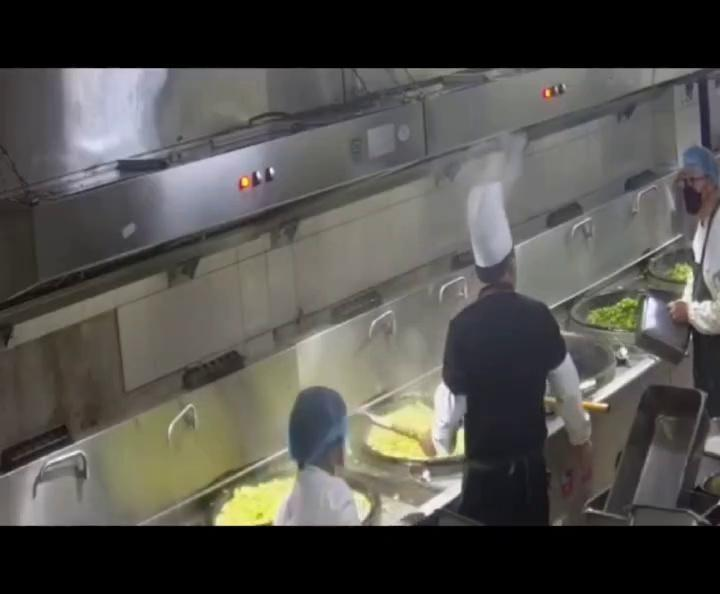gloves: (290, 383, 351, 465), (681, 146, 720, 179)
mask: (677, 183, 706, 218)
no_apron: (665, 302, 692, 327)
